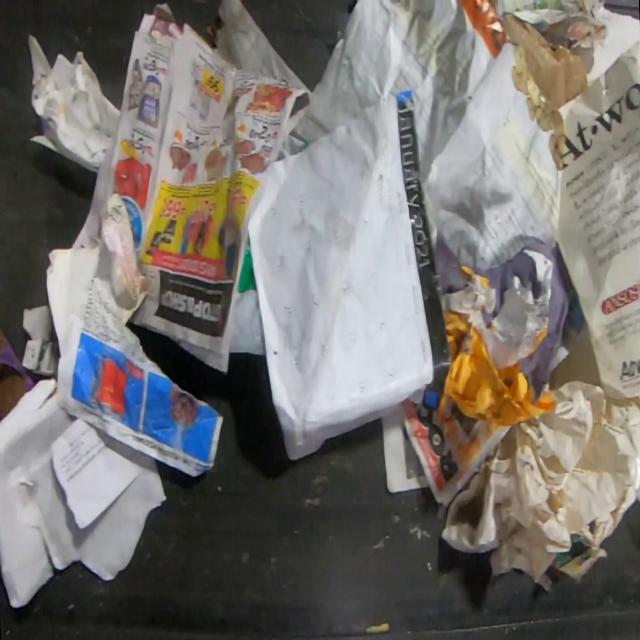cardboard: (500, 13, 588, 109), (0, 325, 34, 423), (21, 305, 60, 377)
